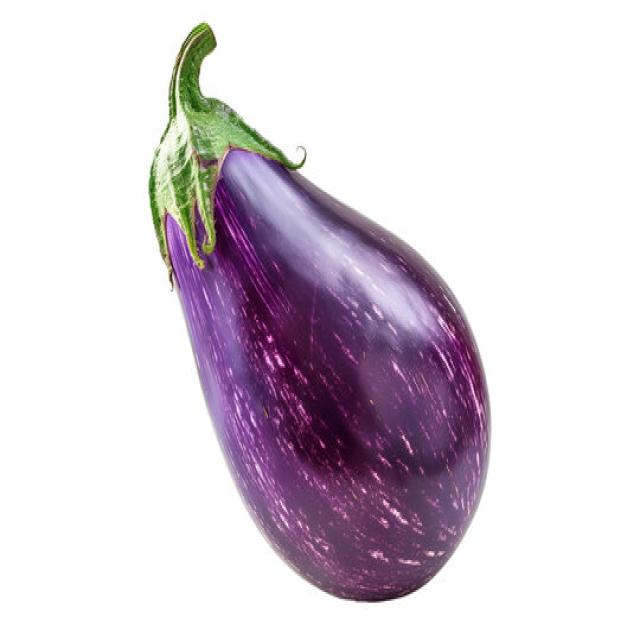Eggplant: (147, 20, 492, 602)
